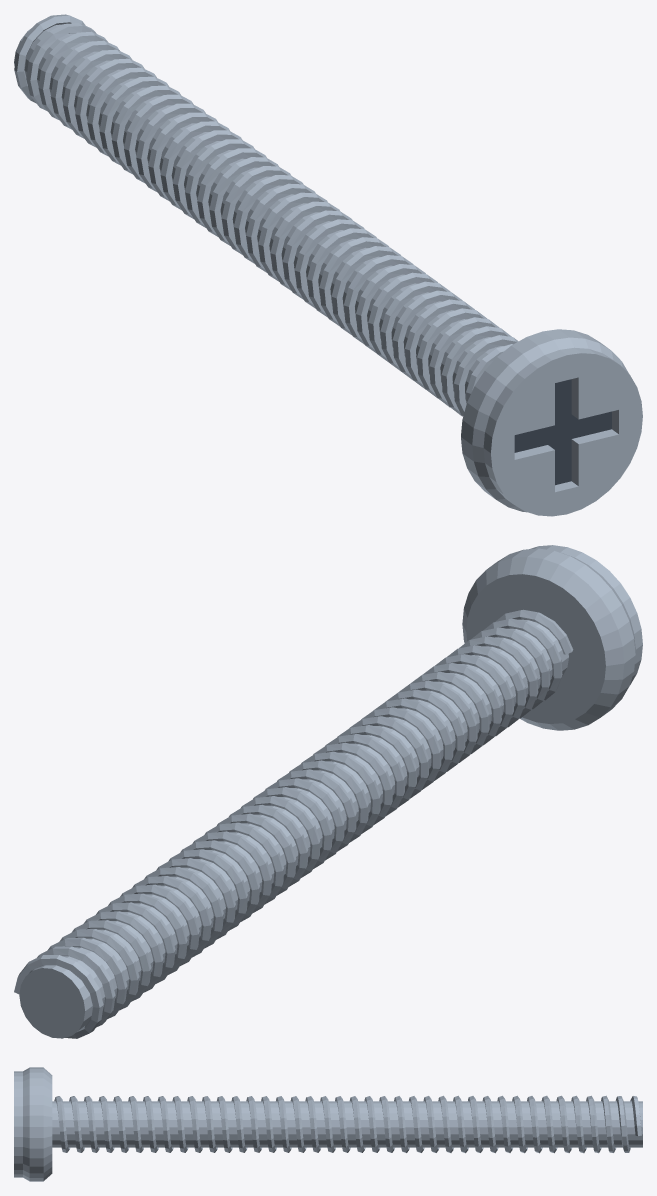
File: screw_30mm.obj
3 views of the same model, one above another, from view 1: azimuth 30°, elevation 25°; view 2: azimuth 150°, elevation 25°; view 3: azimuth 270°, elevation 25° (orthographic). The views are drawn at different scales.
Parts seen in each view (by area): view 1: screw_30mm; view 2: screw_30mm; view 3: screw_30mm.
Part boxes in pixels (<box>): screw_30mm: <box>14,14,642,516</box>; screw_30mm: <box>14,545,642,1038</box>; screw_30mm: <box>14,1067,642,1181</box>.
Bounding box in the file's own units: 0.3631 × 0.3631 × 2.
